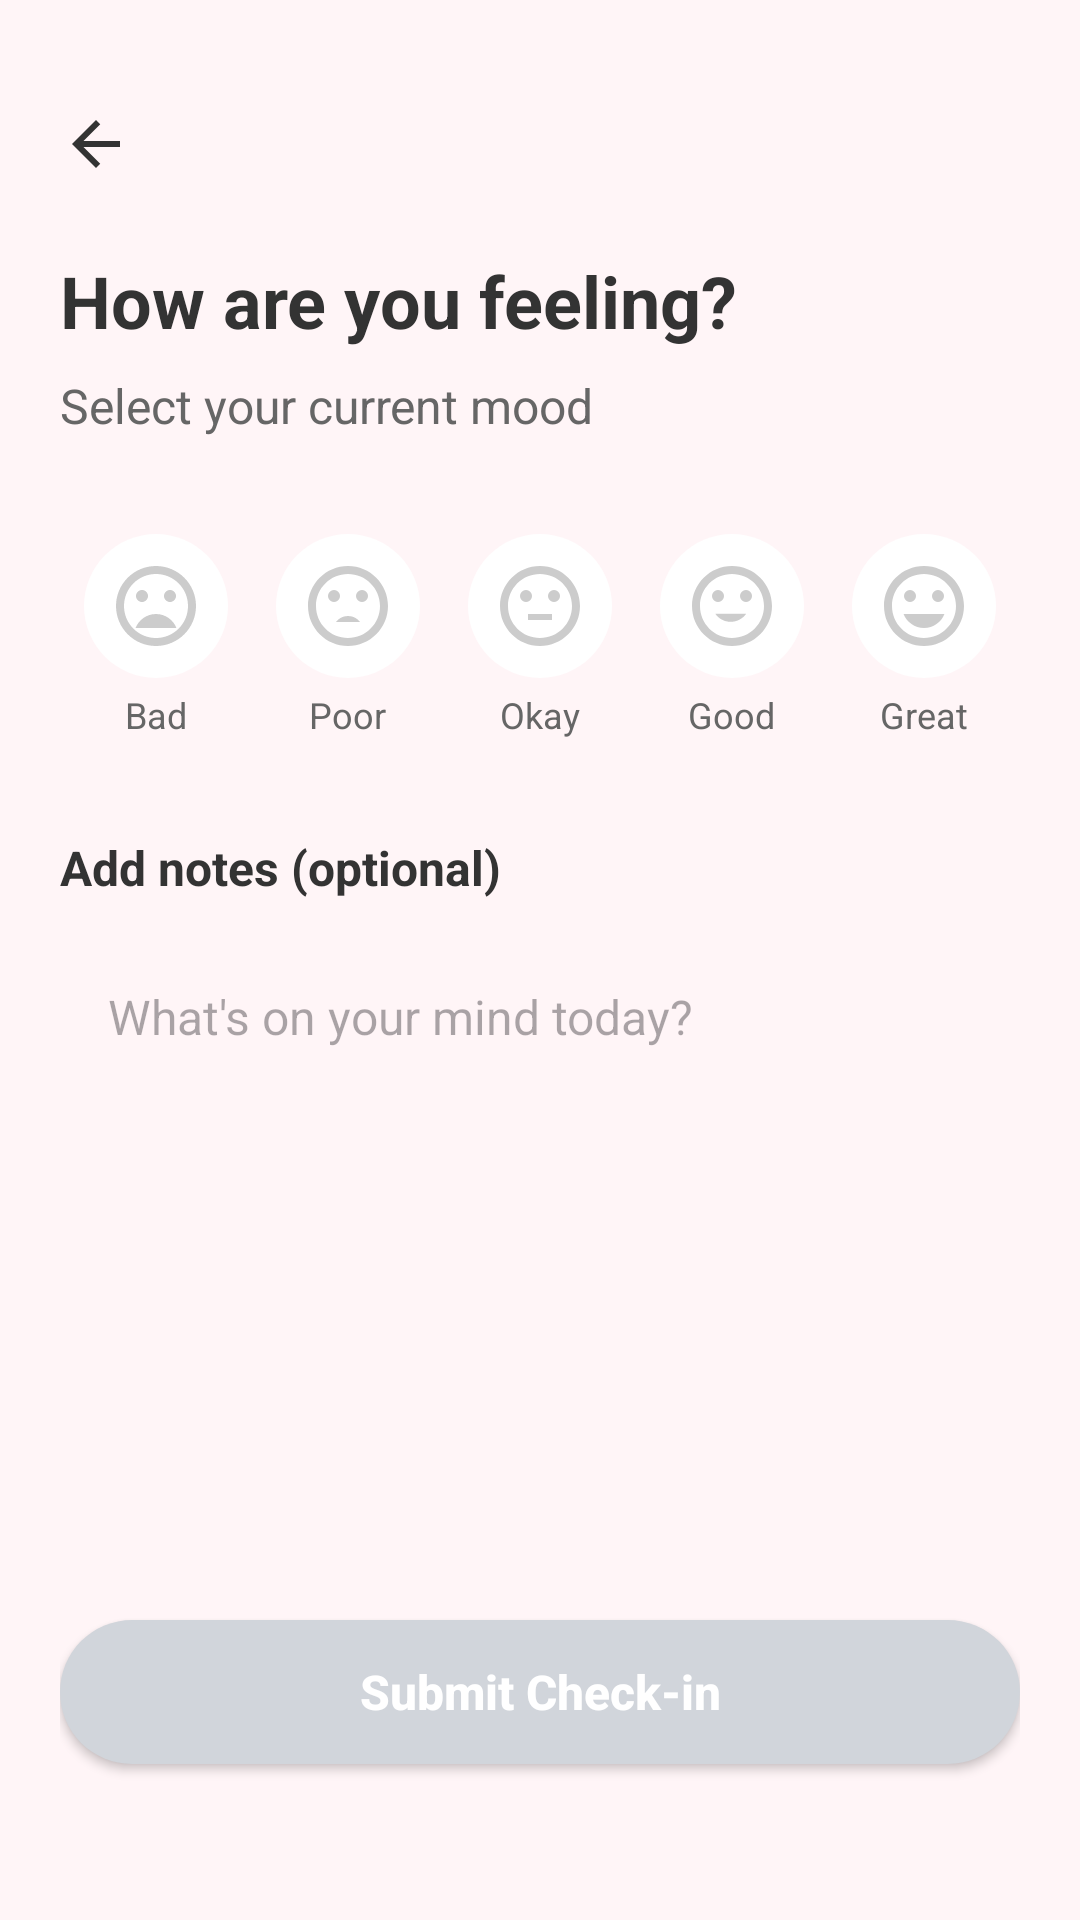

Icon bounding boxes for this 1080 x 1920 phone screenshot, format (x1, y1, x2, y2):
arrow back: (72, 120, 120, 168)
